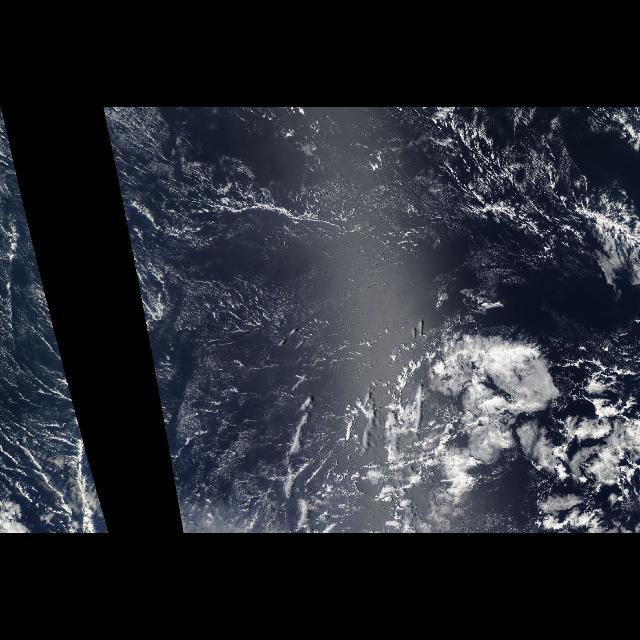Gravel: (207, 108, 598, 242)
Sugar: (122, 122, 390, 532)
